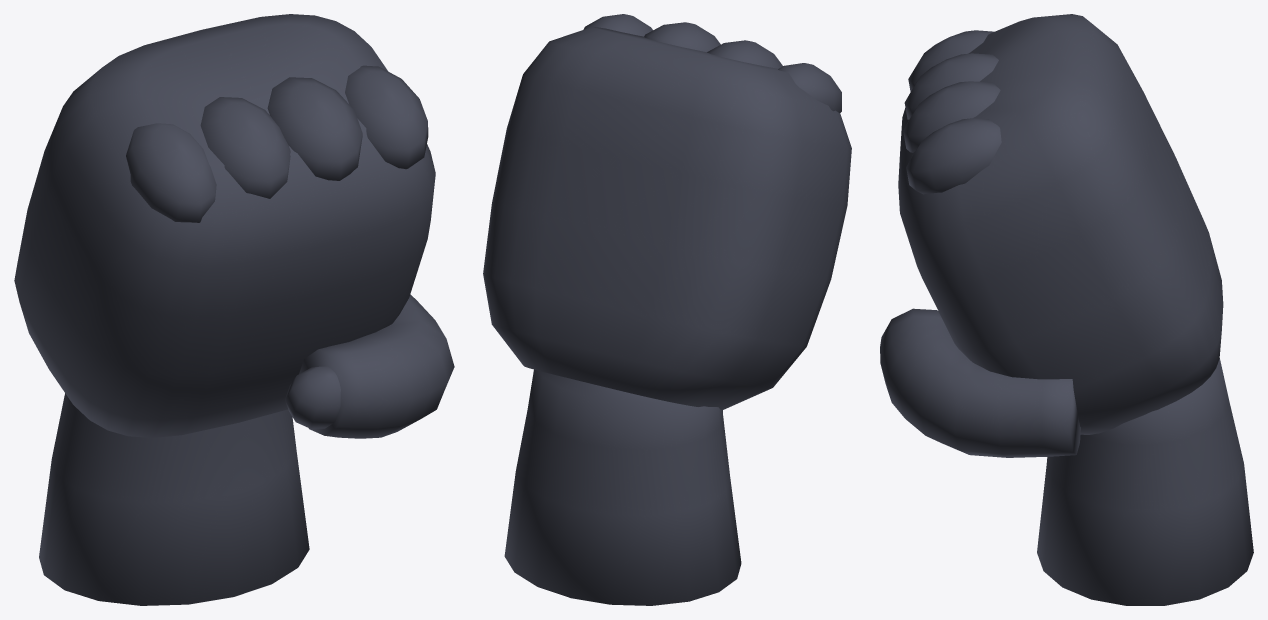
The model's file is giant_fist_flame.glb.
3 renders of one model, left to right at view 1: azimuth 30°, elevation 25°; view 2: azimuth 150°, elevation 25°; view 3: azimuth 270°, elevation 25°, orthographic. The views are drawn at different scales.
Visible parts, largest first — view 1: flame; view 2: flame; view 3: flame.
Boxes of the visible parts, x1,y1,x2,y2 form: flame: (14, 14, 454, 605); flame: (483, 14, 851, 605); flame: (880, 14, 1253, 605).
Bounding box in the file's own units: 0.7662 × 1.13 × 0.7581.
